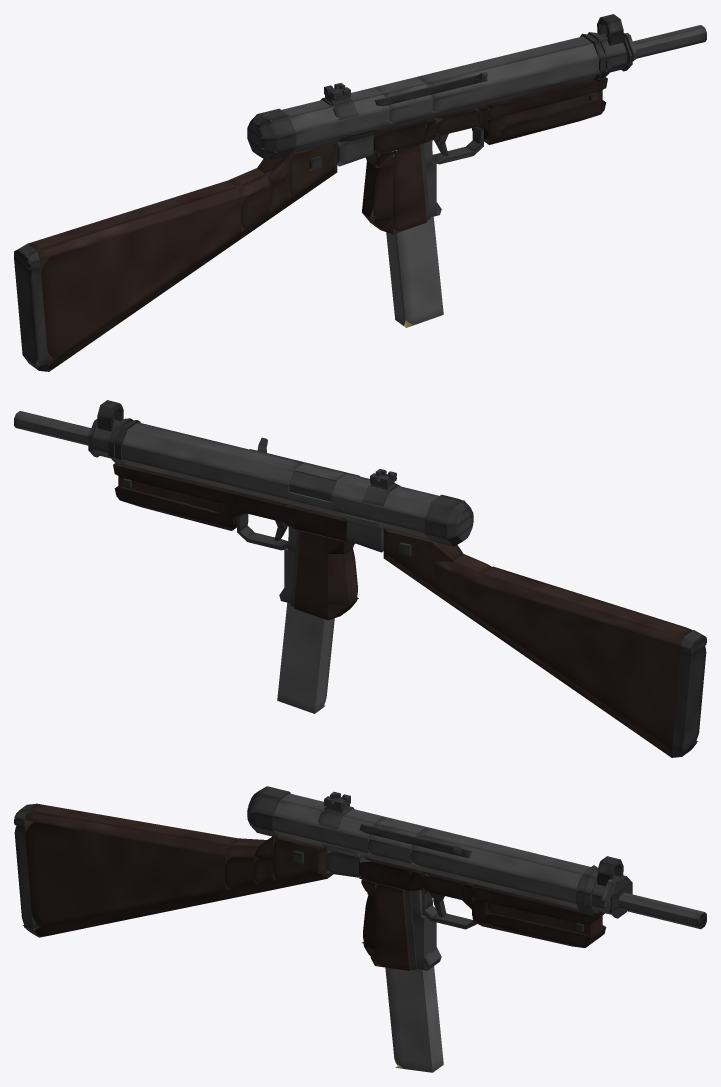
3 renders of one model, top to bottom at view 1: azimuth 30°, elevation 25°; view 2: azimuth 150°, elevation 25°; view 3: azimuth 330°, elevation 25°, orthographic.
Parts seen in each view (by area): view 1: gunModel0, ammoModel0, gunModel1, gunModel80, gunModel68, gunModel12, gunModel79, gunModel3, gunModel14, gunModel28, gunModel15, gunModel5 (+15 smaller); view 2: gunModel0, ammoModel0, gunModel80, gunModel1, gunModel68, gunModel12, gunModel79, gunModel3, gunModel14, gunModel28, gunModel15, gunModel5 (+14 smaller); view 3: gunModel0, ammoModel0, gunModel1, gunModel80, gunModel3, gunModel68, gunModel79, gunModel14, gunModel28, gunModel15, gunModel5, gunModel13 (+18 smaller).
Boxes of the visible parts, left/top/right/bottom form: gunModel0: left=26, top=199, right=240, bottom=363; ammoModel0: left=378, top=150, right=443, bottom=327; gunModel1: left=27, top=180, right=240, bottom=260; gunModel80: left=417, top=36, right=598, bottom=98; gunModel68: left=375, top=144, right=426, bottom=234; gunModel12: left=14, top=258, right=48, bottom=366; gunModel79: left=432, top=58, right=598, bottom=111; gunModel3: left=47, top=169, right=337, bottom=371; gunModel14: left=265, top=87, right=389, bottom=132; gunModel28: left=485, top=79, right=597, bottom=120; gunModel15: left=273, top=70, right=607, bottom=154; gunModel5: left=273, top=143, right=333, bottom=195; gunModel0: left=480, top=585, right=680, bottom=749; ammoModel0: left=277, top=602, right=334, bottom=713; gunModel80: left=122, top=422, right=302, bottom=485; gunModel1: left=480, top=566, right=692, bottom=646; gunModel68: left=294, top=530, right=328, bottom=620; gunModel12: left=672, top=646, right=706, bottom=752; gunModel79: left=122, top=444, right=289, bottom=499; gunModel3: left=383, top=555, right=672, bottom=757; gunModel14: left=331, top=473, right=438, bottom=518; gunModel28: left=123, top=465, right=235, bottom=506; gunModel15: left=122, top=459, right=428, bottom=538; gunModel5: left=387, top=529, right=433, bottom=585; gunModel0: left=25, top=822, right=228, bottom=928; ammoModel0: left=385, top=966, right=443, bottom=1072; gunModel1: left=24, top=803, right=237, bottom=856; gunModel80: left=411, top=827, right=590, bottom=889; gunModel3: left=34, top=872, right=326, bottom=937; gunModel68: left=375, top=883, right=411, bottom=970; gunModel79: left=410, top=851, right=577, bottom=903; gunModel14: left=273, top=793, right=383, bottom=838; gunModel28: left=472, top=884, right=584, bottom=923; gunModel15: left=274, top=830, right=579, bottom=909; gunModel5: left=273, top=836, right=320, bottom=879; gunModel13: left=273, top=816, right=369, bottom=852.
Bounding box in the file's own units: 19.85 × 7.09 × 1.43.
